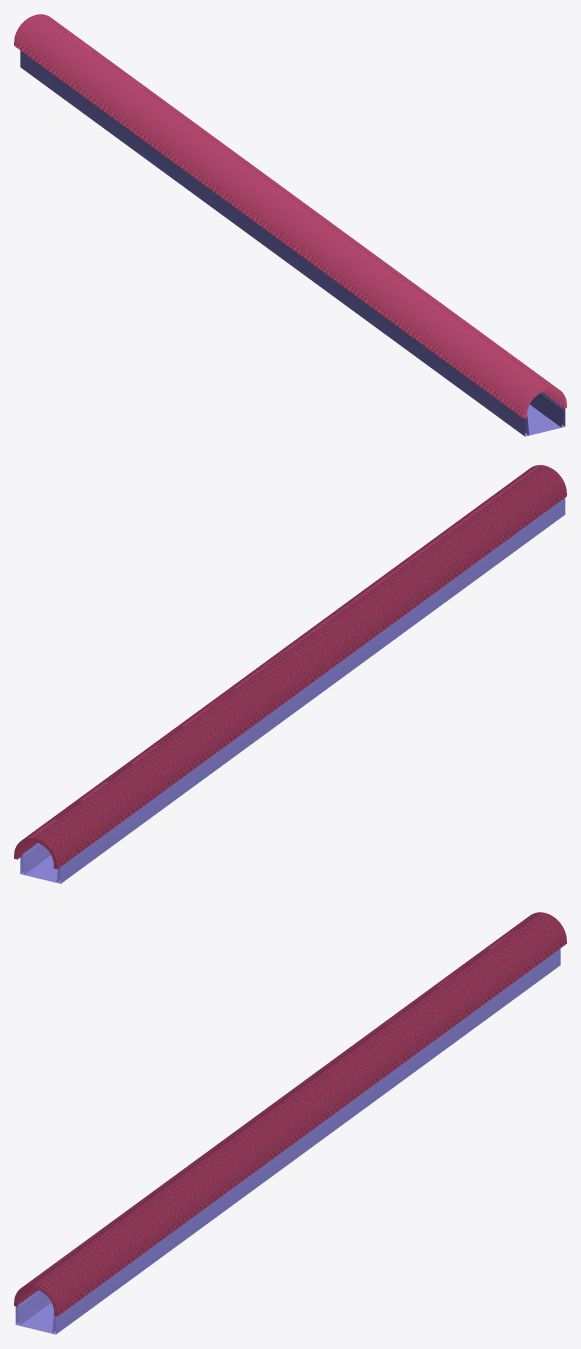
File: FinalProjectModeling_5_HiralRP.fbx
3 renders of one model, top to bottom at view 1: azimuth 30°, elevation 25°; view 2: azimuth 150°, elevation 25°; view 3: azimuth 330°, elevation 25°, orthographic.
Visible parts, largest first — view 1: TopWall, TunnelBase, BottomRightWall; view 2: TopWall, TunnelBase; view 3: TopWall, TunnelBase, BottomLeftWall.
Boxes of the visible parts, left/top/right/bottom form: TopWall: left=14, top=14, right=566, bottom=418; TunnelBase: left=20, top=50, right=565, bottom=436; BottomRightWall: left=529, top=392, right=563, bottom=427; TopWall: left=14, top=465, right=566, bottom=869; TunnelBase: left=20, top=498, right=565, bottom=883; TopWall: left=14, top=912, right=566, bottom=1316; TunnelBase: left=15, top=948, right=560, bottom=1334; BottomLeftWall: left=18, top=1290, right=51, bottom=1325.
Size of the model in its own units: 200 by 193 by 4037.
